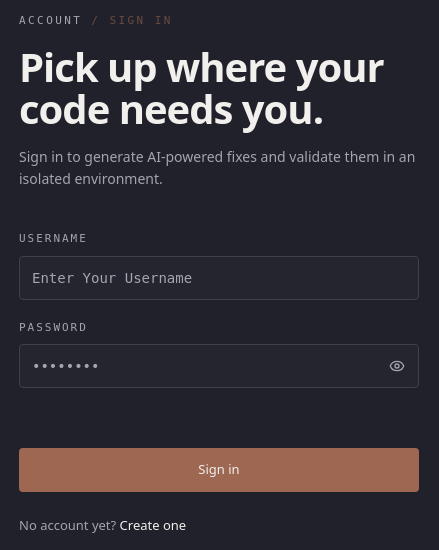
Test: LoginPage › shows the backend message when credentials are rejected
The width and height of the screenshot is (439, 550).
Type "alice" into the field labelled "Username".
click(219, 278); type("alice")  # box [19,256,419,300]
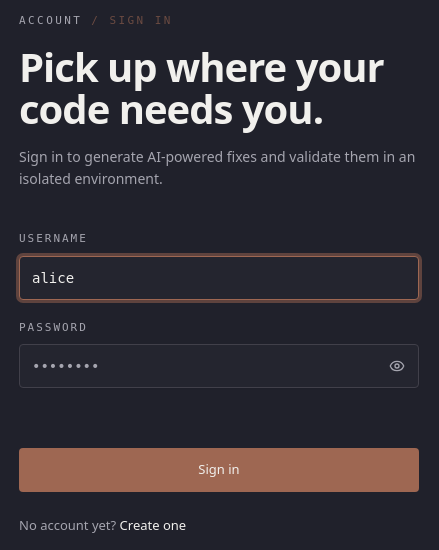
Type "wrong" into the password field labelled "Password".
click(219, 366); type("wrong")  # box [19,344,419,388]
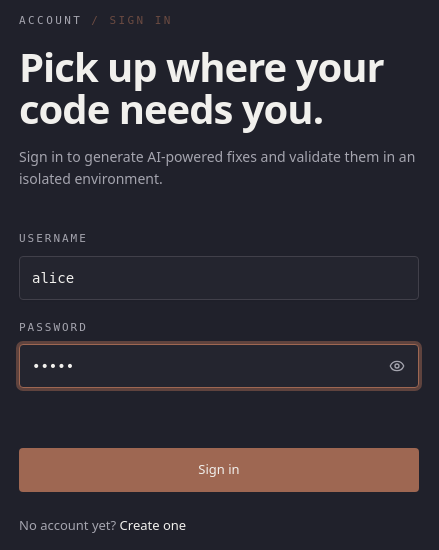
Click the button "Sign in".
click(219, 470)  # box [19,448,419,492]
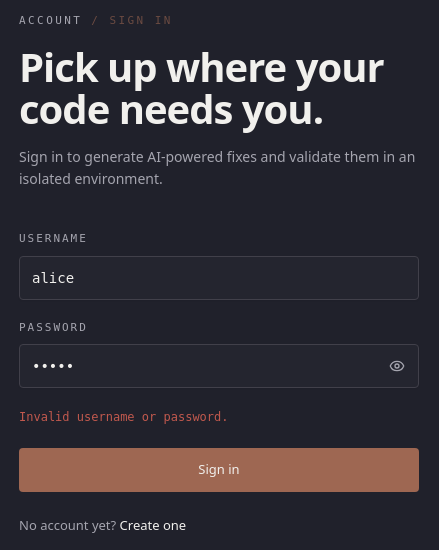
Expected: the text "Invalid username or password." is shown, [19,410,228,424]
